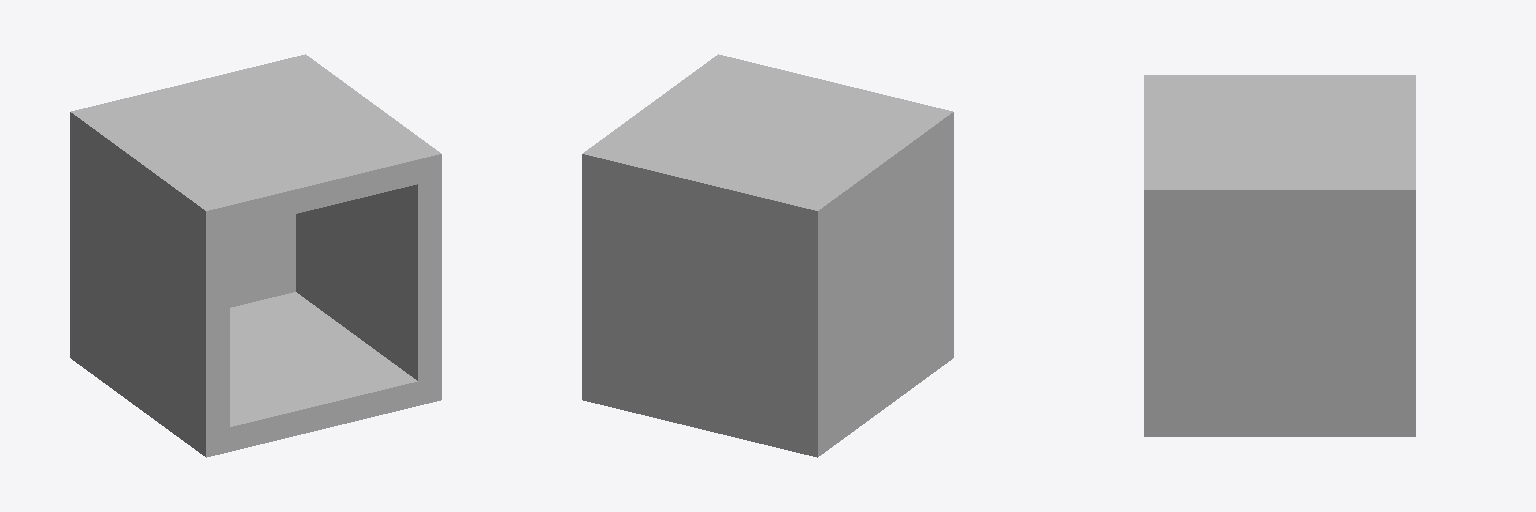
The model's file is SafeBase.obj.
3 views of the same model, side by side, from view 1: azimuth 30°, elevation 25°; view 2: azimuth 150°, elevation 25°; view 3: azimuth 270°, elevation 25° (orthographic).
Parts seen in each view (by area): view 1: Cube; view 2: Cube; view 3: Cube.
Boxes of the visible parts, <box> form: Cube: <box>70,54,441,457</box>; Cube: <box>582,54,953,457</box>; Cube: <box>1144,75,1415,436</box>.
Bounding box in the file's own units: 2 × 2 × 2.